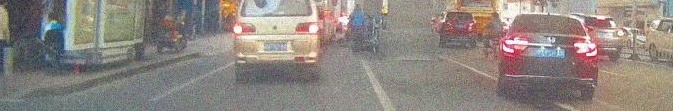L_light: (502, 39, 529, 54)
R_light: (574, 43, 597, 57)
T_light: (540, 16, 558, 19)
day-right: (500, 13, 597, 99)
